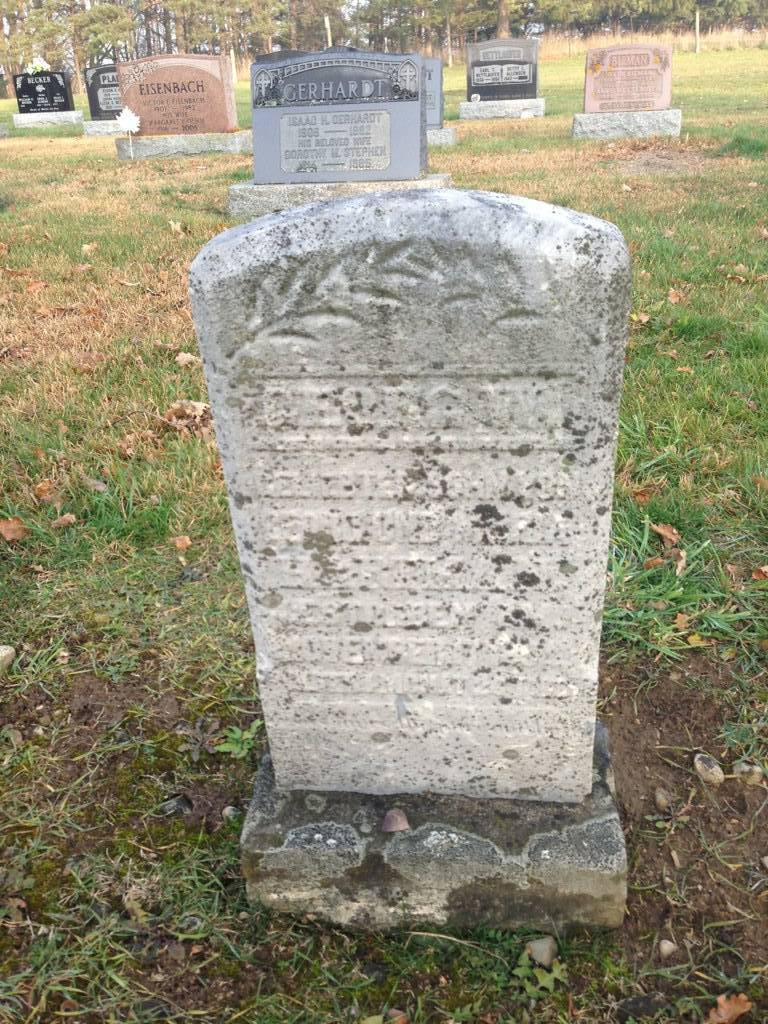upright: (190, 192, 635, 926)
